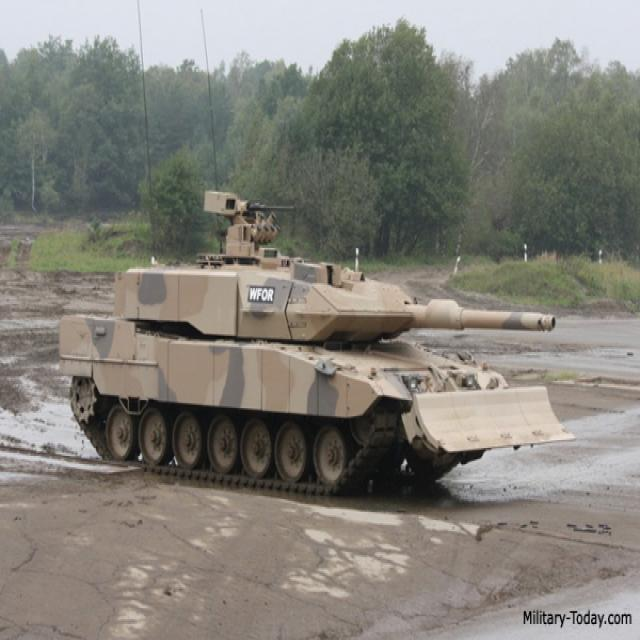Tank: (68, 174, 558, 493)
